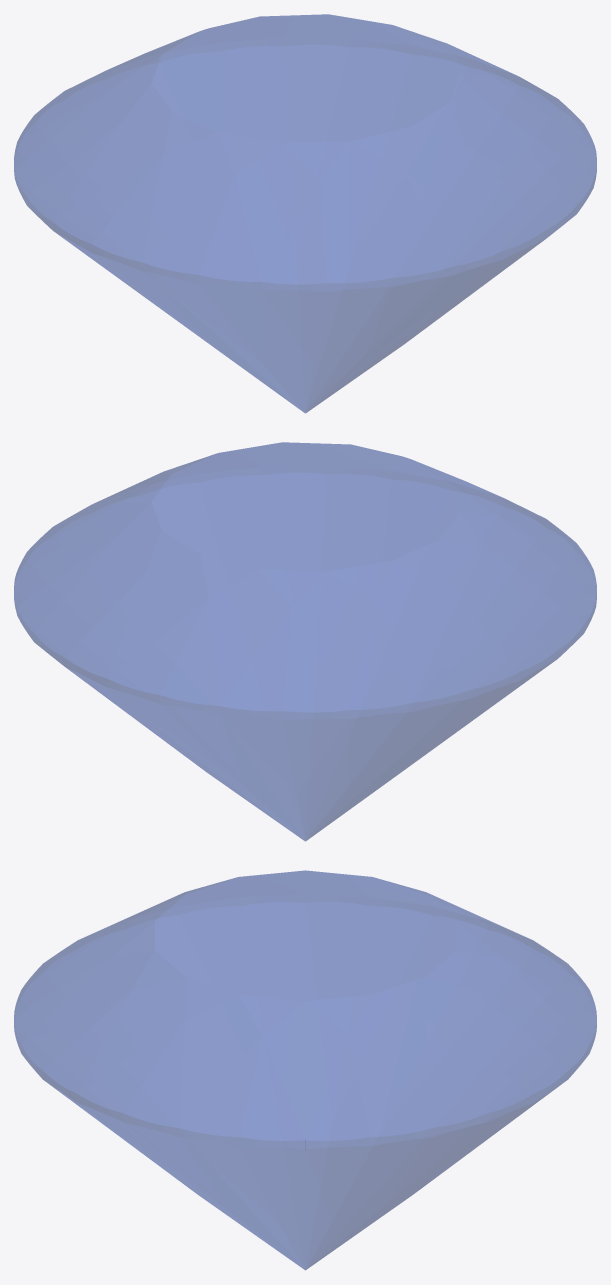
Rendered from diamond.glb.
3 renders of one model, top to bottom at view 1: azimuth 30°, elevation 25°; view 2: azimuth 150°, elevation 25°; view 3: azimuth 270°, elevation 25°, orthographic.
Visible parts, largest first — view 1: dobj; view 2: dobj; view 3: dobj.
Boxes of the visible parts, <box> form: dobj: <box>14,14,596,413</box>; dobj: <box>14,442,596,841</box>; dobj: <box>14,870,596,1270</box>.
Bounding box in the file's own units: 2 × 1.27 × 2.
